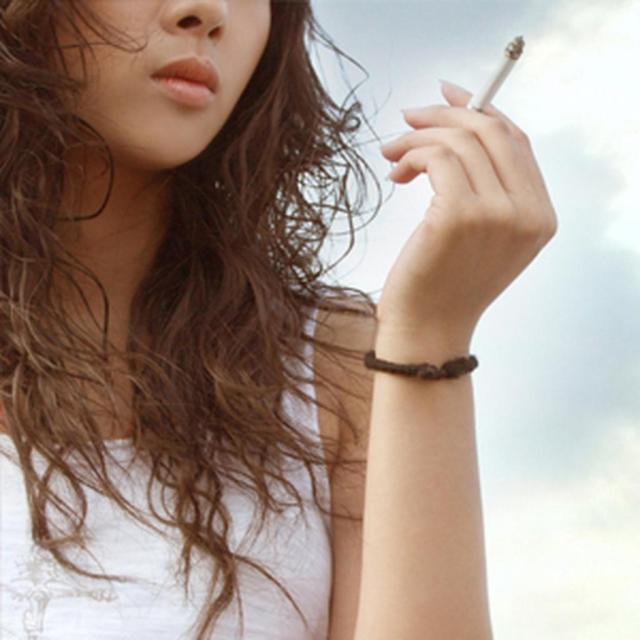smoking: (1, 0, 574, 366)
